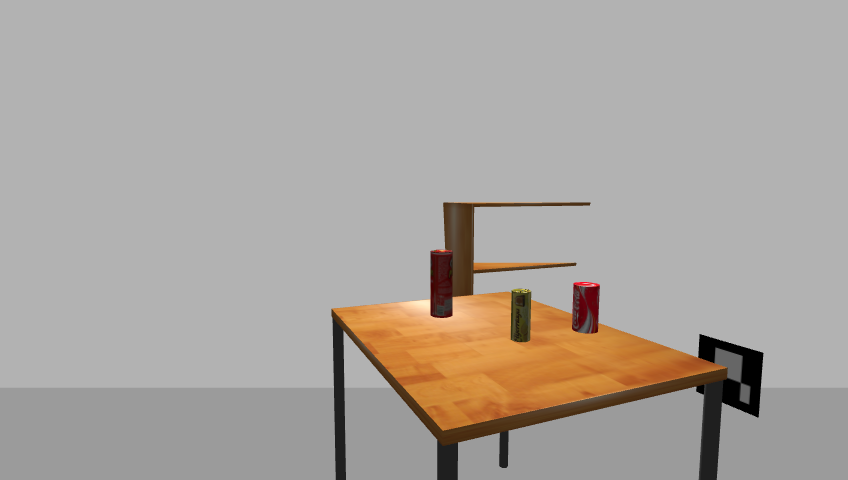aruco marker: (692, 333, 768, 419)
biscuits pack: (509, 288, 533, 344)
bookshelf: (438, 197, 596, 371)
coke can: (570, 281, 602, 335)
dinner table: (324, 292, 733, 480)
pringles can: (427, 249, 455, 320)
